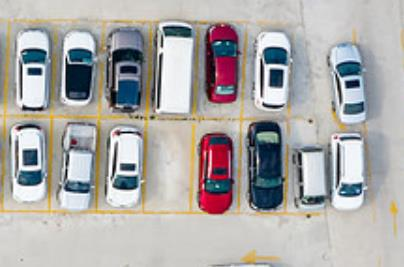car: (244, 120, 288, 212), (152, 21, 194, 116), (325, 41, 370, 126), (105, 23, 147, 113), (56, 118, 96, 210), (252, 28, 292, 113), (7, 120, 48, 202), (13, 25, 51, 113), (328, 130, 369, 211), (107, 124, 146, 207), (203, 19, 241, 104), (197, 131, 235, 215), (60, 28, 97, 109), (291, 145, 329, 213)
